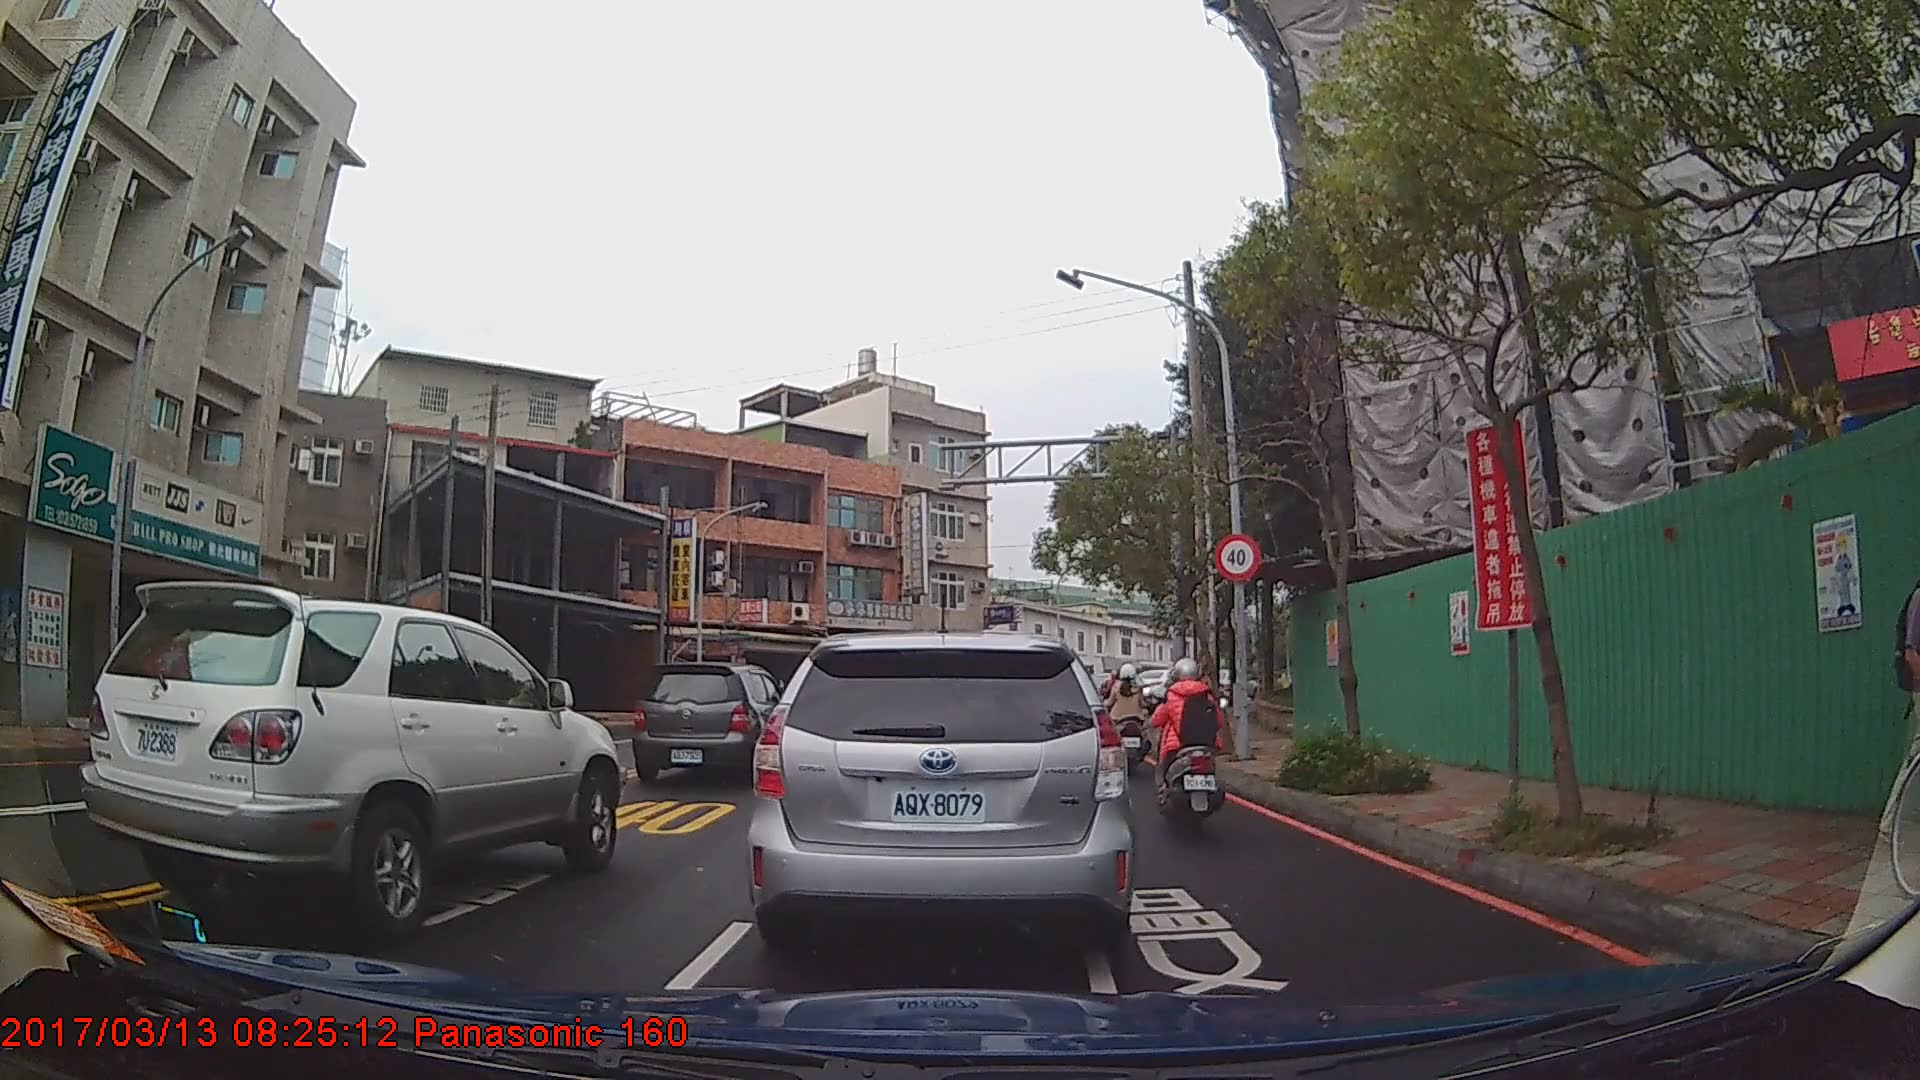pedestrian: (1892, 528, 1920, 848)
rider: (1150, 659, 1229, 836), (1107, 668, 1147, 775)
vehicle: (78, 580, 620, 936), (744, 630, 1135, 964), (632, 661, 789, 782)
